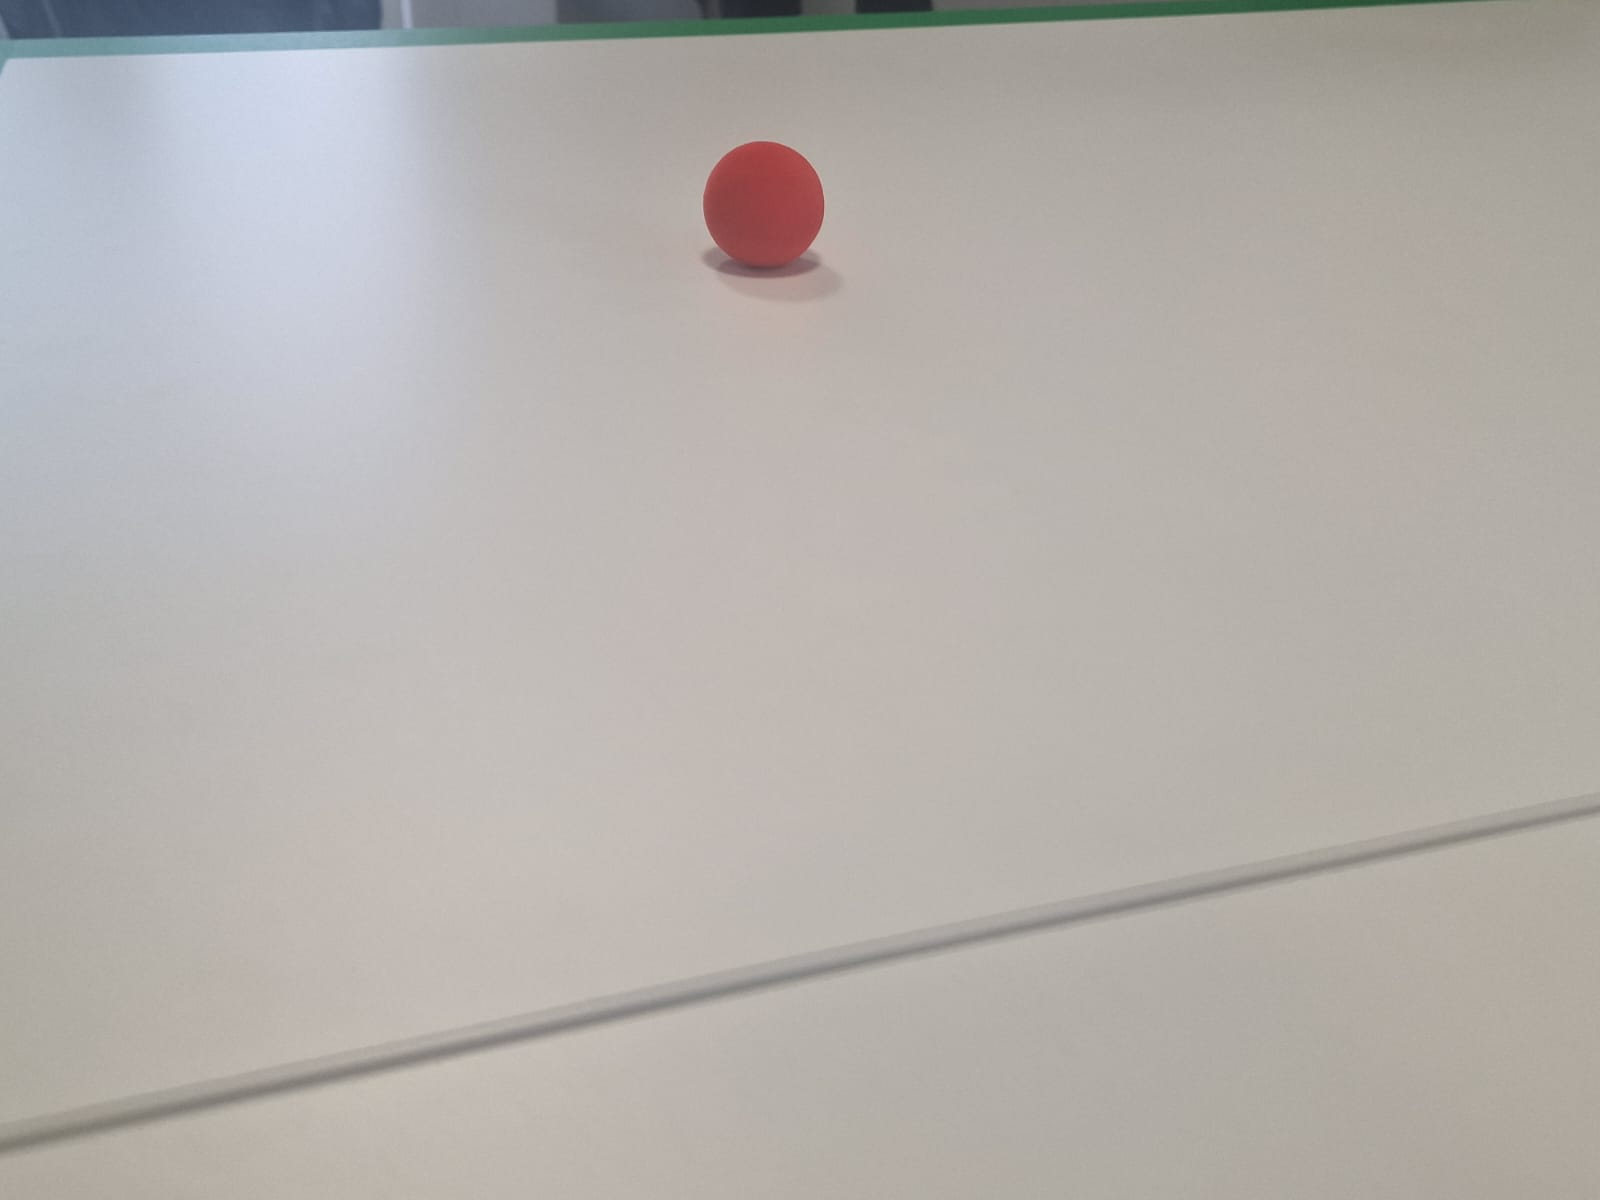bola_cerca: (700, 134, 826, 268)
